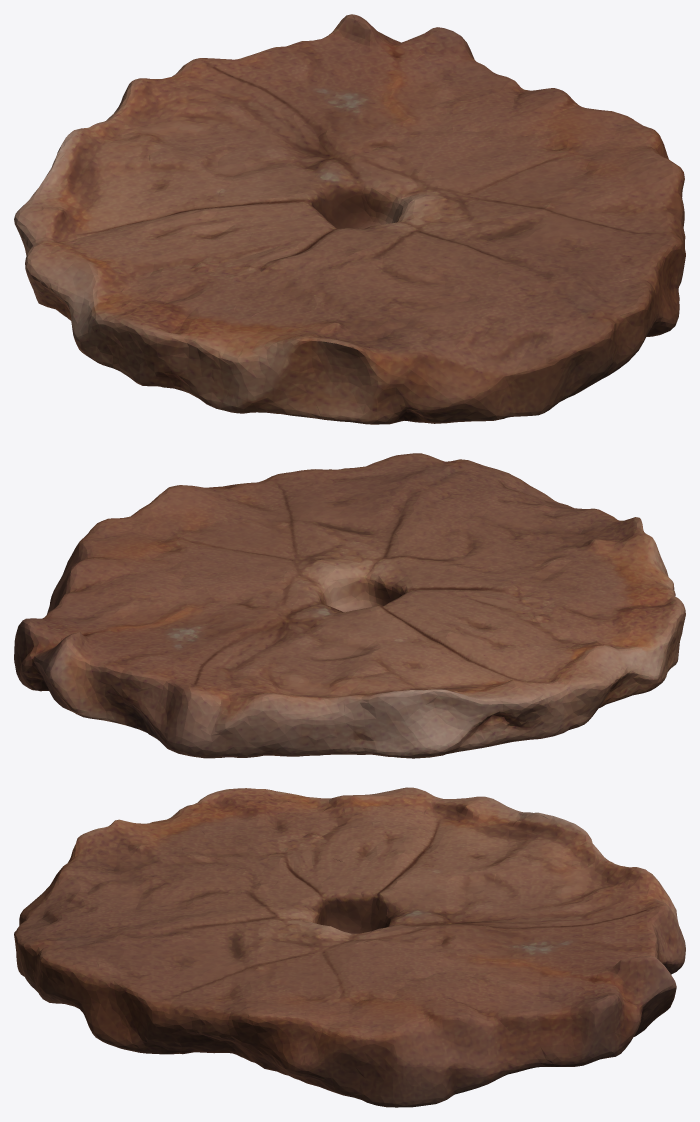
3 renders of one model, top to bottom at view 1: azimuth 30°, elevation 25°; view 2: azimuth 150°, elevation 25°; view 3: azimuth 270°, elevation 25°, orthographic. The views are drawn at different scales.
Visible parts, largest first — view 1: world; view 2: world; view 3: world.
Boxes of the visible parts, bbox=[...] form: world: bbox=[14, 14, 685, 424]; world: bbox=[14, 453, 685, 758]; world: bbox=[14, 787, 685, 1107].
Size of the model in its own units: 0.9339 by 0.1485 by 0.9984.
1 material, 1 textured.
